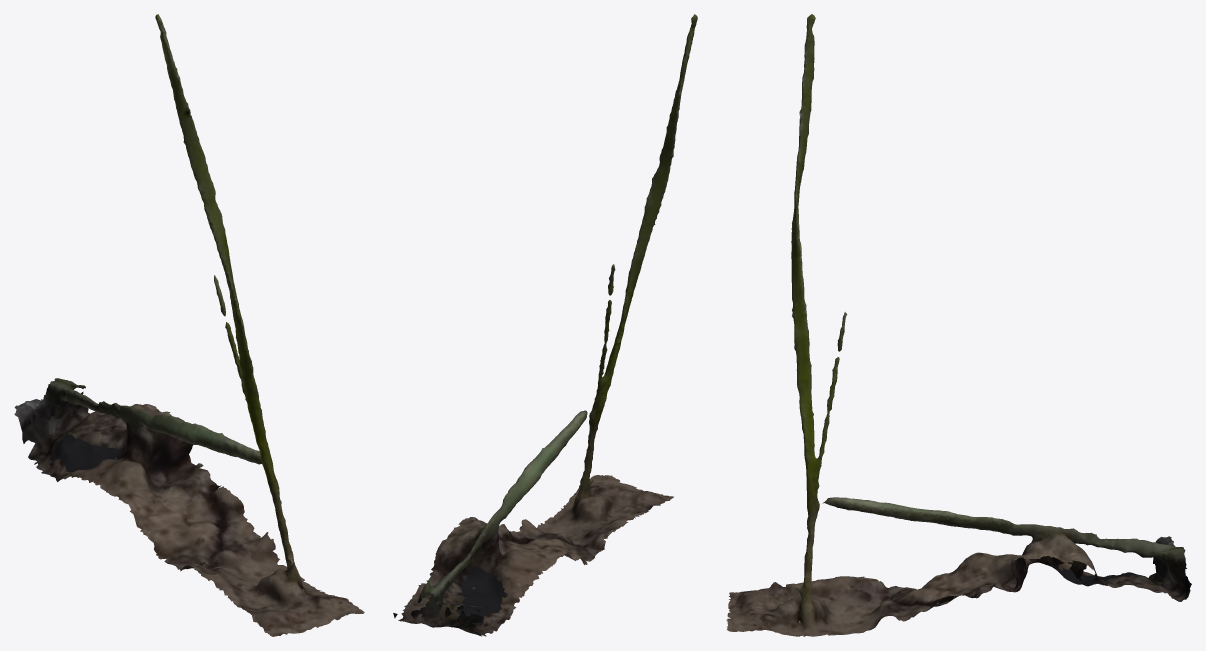
File: Day11.glb
3 views of the same model, side by side, from view 1: azimuth 30°, elevation 25°; view 2: azimuth 150°, elevation 25°; view 3: azimuth 270°, elevation 25° (orthographic). The views are drawn at different scales.
Parts seen in each view (by area): view 1: Day12; view 2: Day12; view 3: Day12.
Boxes of the visible parts, left/top/right/bottom form: Day12: left=14, top=14, right=364, bottom=636; Day12: left=393, top=14, right=697, bottom=636; Day12: left=726, top=14, right=1191, bottom=636.
Size of the model in its own units: 0.2026 by 0.7236 by 0.5516.
44 materials, 44 textured.
